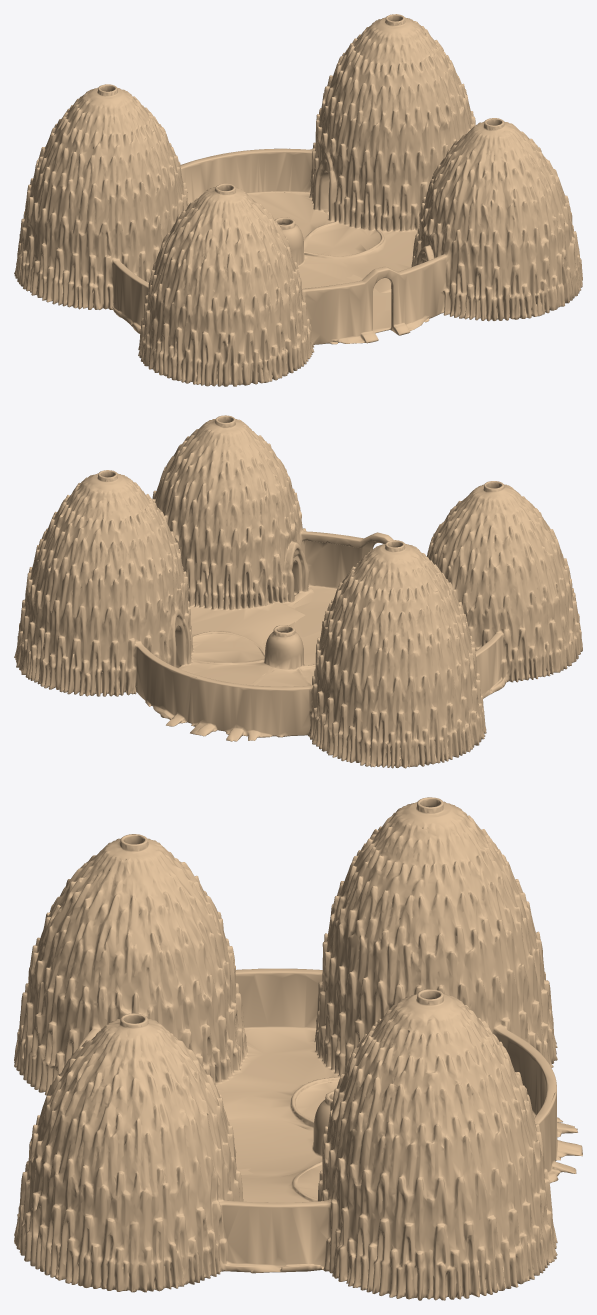
Rendered from dome.glb.
3 renders of one model, top to bottom at view 1: azimuth 30°, elevation 25°; view 2: azimuth 150°, elevation 25°; view 3: azimuth 270°, elevation 25°, orthographic. The views are drawn at different scales.
Visible parts, largest first — view 1: LE DÖME; view 2: LE DÖME; view 3: LE DÖME.
Boxes of the visible parts, x1=… form: LE DÖME: x1=14, y1=14, x2=582, y2=386; LE DÖME: x1=14, y1=415, x2=582, y2=768; LE DÖME: x1=14, y1=797, x2=582, y2=1300.
Bounding box in the file's own units: 2 × 0.7928 × 1.61.
